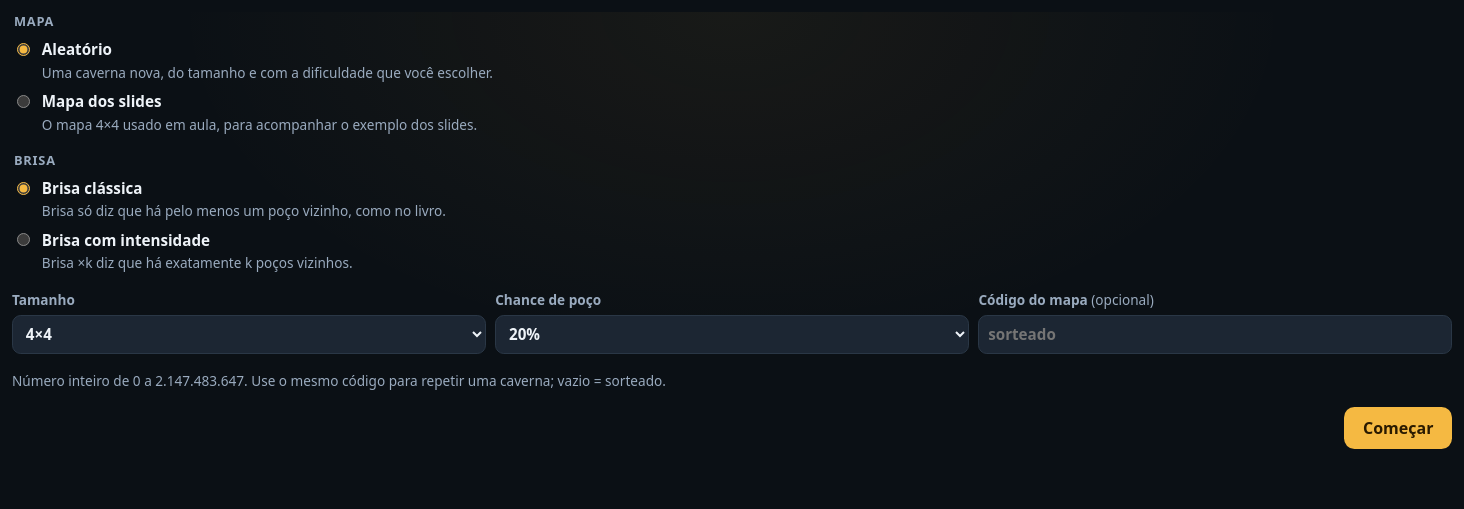
GameSetupForm seed validation › rejects a number above the limit, saying the allowed range
Step 1. Type "2147483648" into the field labelled "Código do mapa (opcional)" → (1215, 334), box [978,315,1452,354]
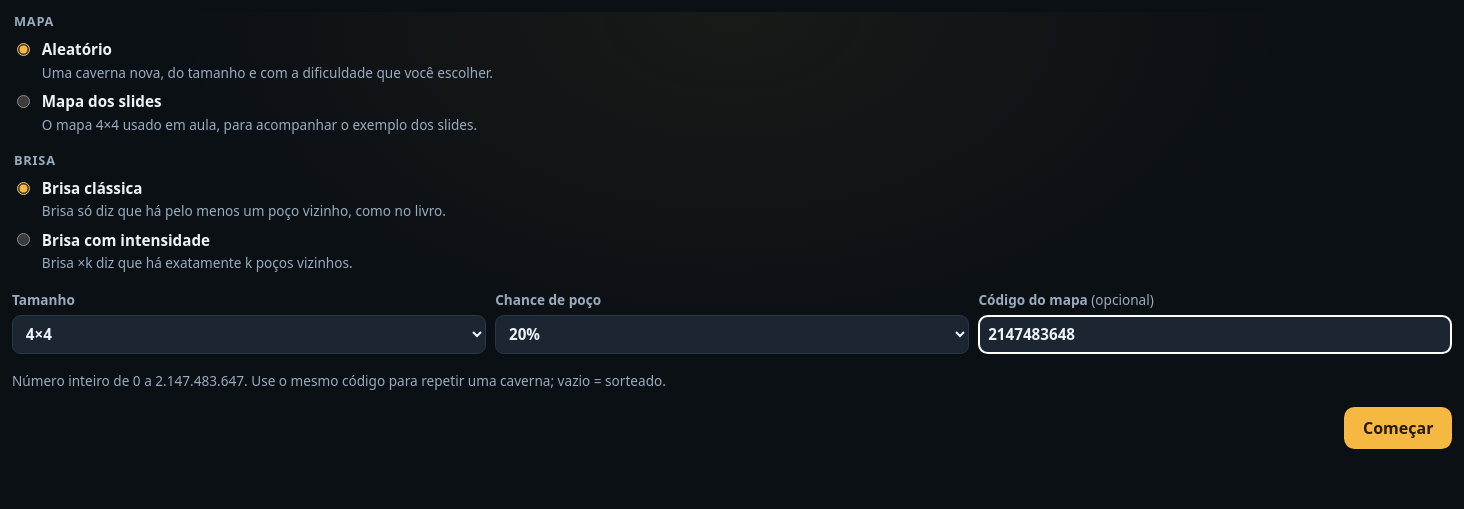
Step 2. Click the button "Começar" → (1398, 428), box [1344,407,1452,449]
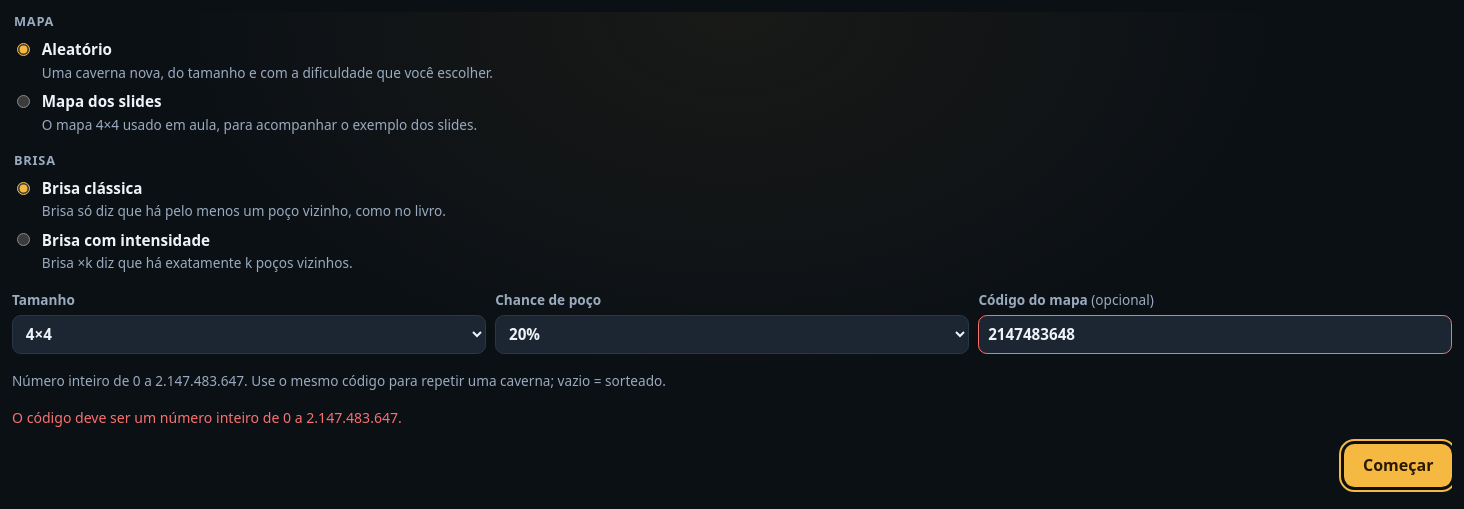
Expected: the message reads "O código deve ser um número inteiro de 0 a 2.147.483.647.", [12,408,402,427]
